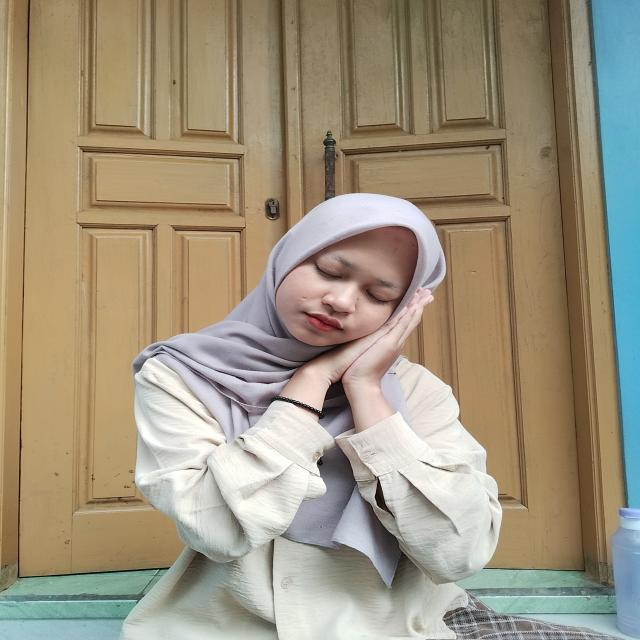tidur: (231, 288, 443, 457)
